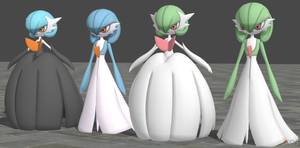gardevoir: (211, 2, 295, 148)
